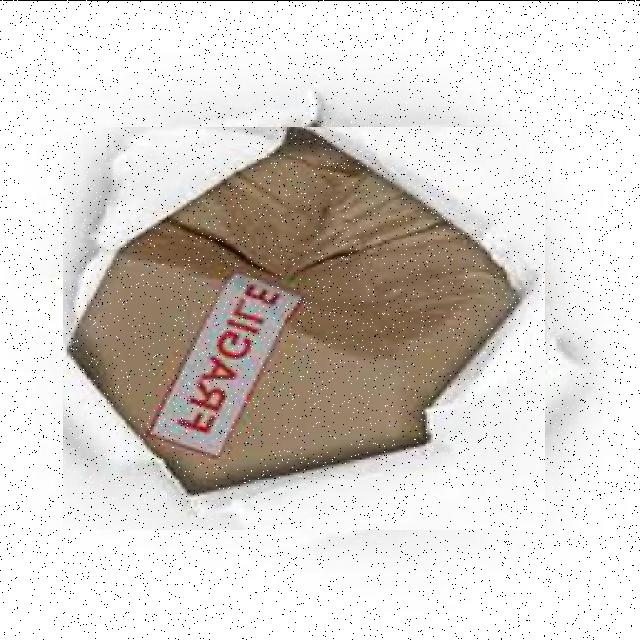defect: (63, 126, 545, 529)
